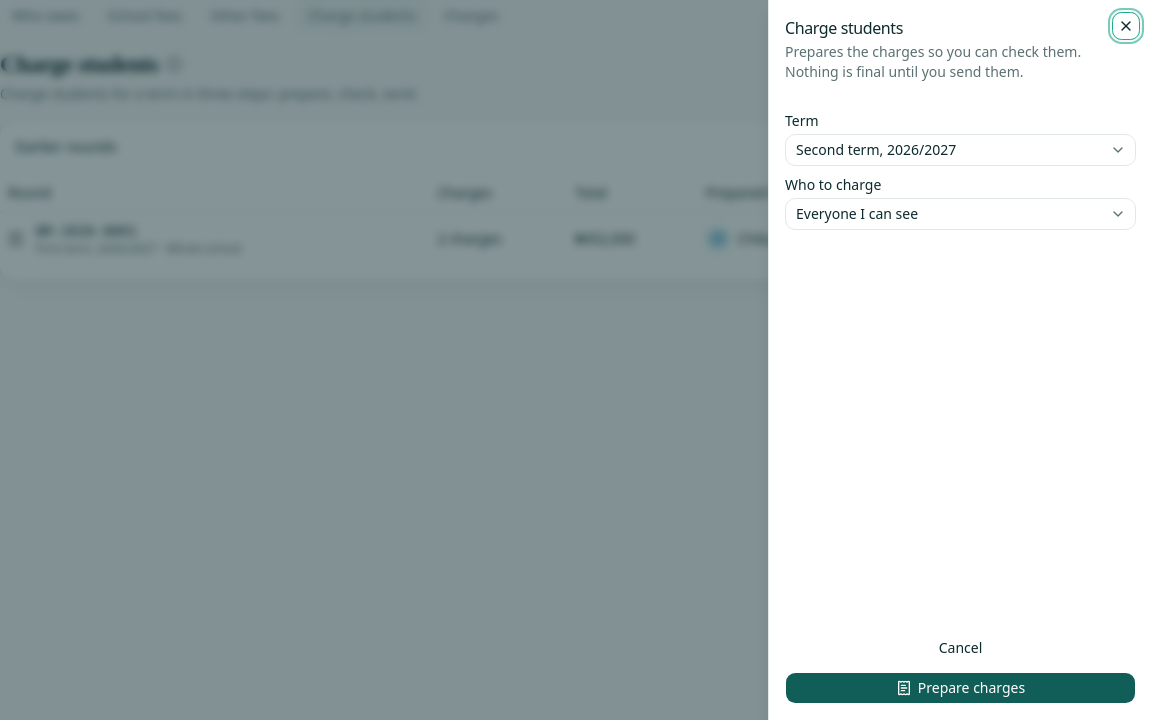
Test case: the prepare sheet › prepares the whole school and shows the ready callout with a toast
Expected: the dropdown labelled "Term" is shown, [785,134,1136,166]
Step 1. Click the button "Prepare charges" → (960, 688), box [785,672,1136,704]
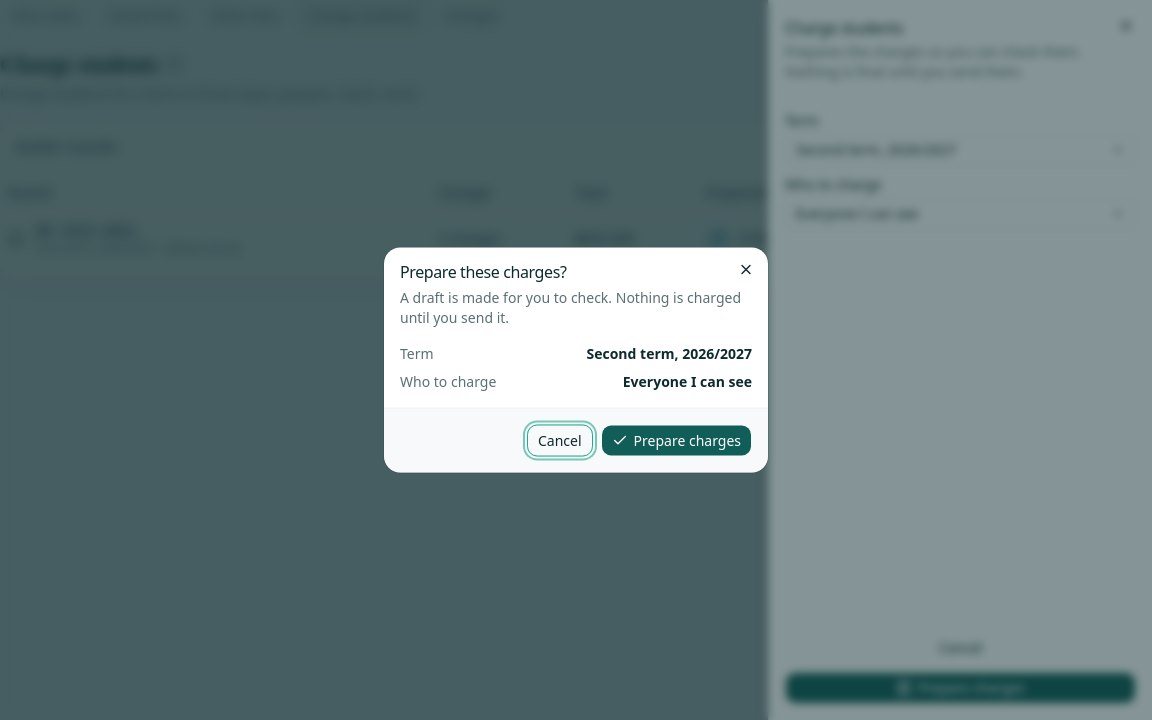
Step 2. Click the button "Prepare charges" → (676, 440), box [600,424,752,456]
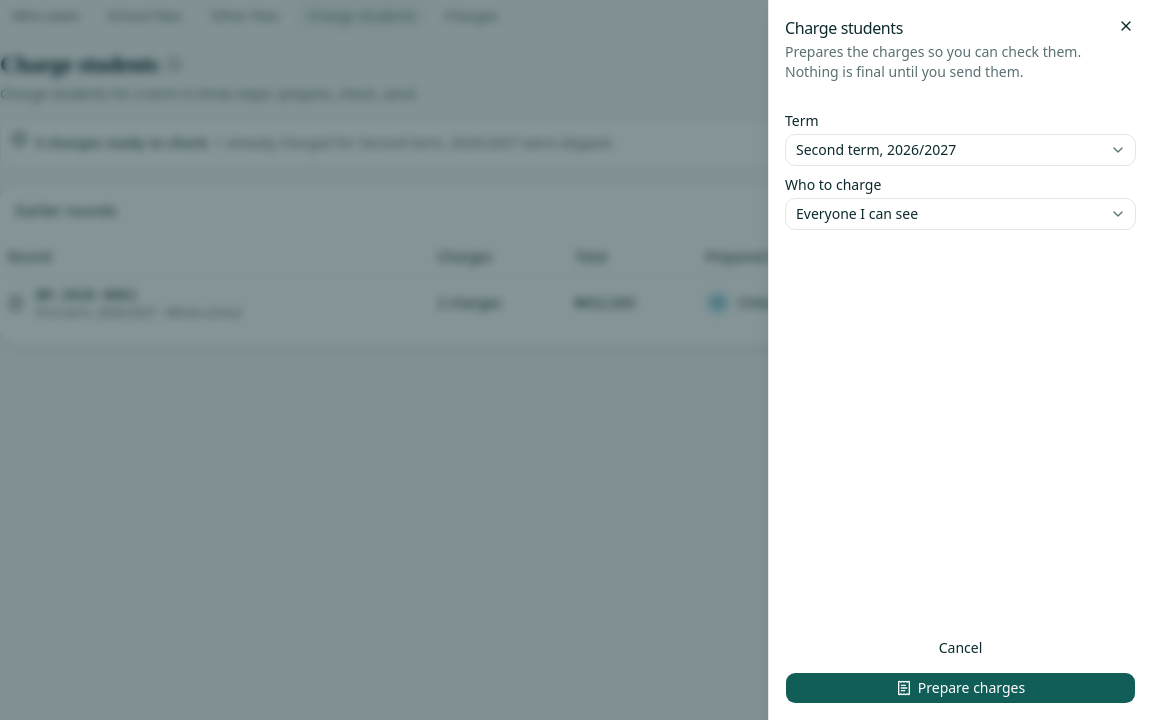
Expected: the text "3 charges ready to check" is shown, [35,133,208,152]
Expected: the text "1 already charged for Second term, 2026/2027 were skipped" is shown, [35,133,614,153]
